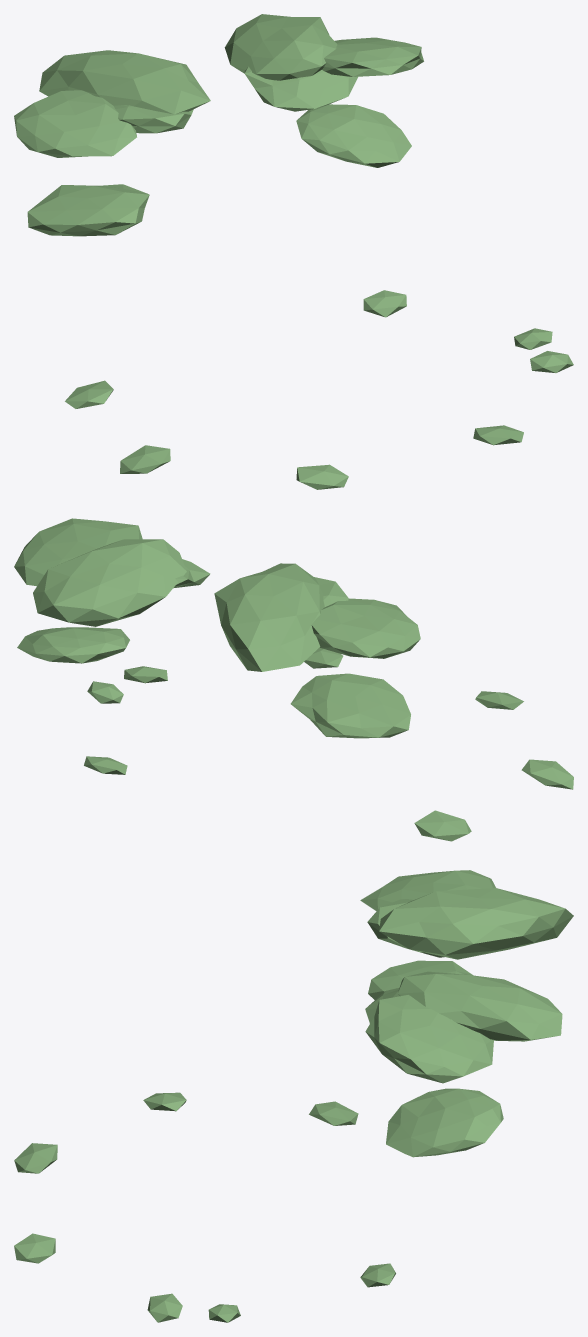
The model's file is SM_WF_Moss.fbx.
3 renders of one model, top to bottom at view 1: azimuth 30°, elevation 25°; view 2: azimuth 150°, elevation 25°; view 3: azimuth 270°, elevation 25°, orthographic. The views are drawn at different scales.
Parts seen in each view (by area): view 1: SM_WF_Moss; view 2: SM_WF_Moss; view 3: SM_WF_Moss.
Part boxes in pixels (x1,y1,x2,y2): SM_WF_Moss: (14, 14, 573, 489); SM_WF_Moss: (14, 518, 573, 841); SM_WF_Moss: (14, 870, 573, 1322).
Bounding box in the file's own units: 430 × 437 × 241.
